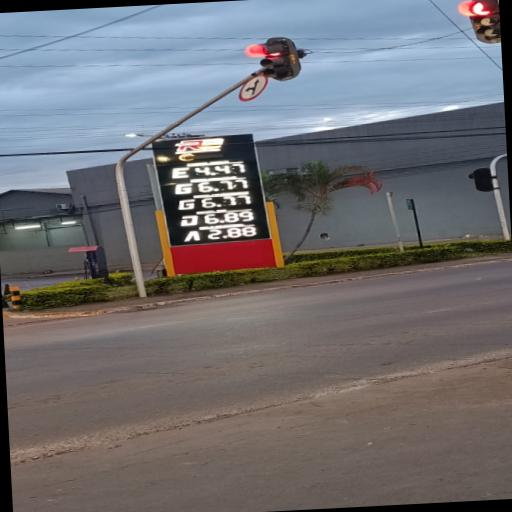ETANOL: (168, 157, 238, 181)
GASOLINA AD: (178, 190, 254, 213)
GASOLINA C: (171, 175, 241, 198)
S10: (180, 208, 234, 226)
placa: (159, 158, 270, 228)
preco: (196, 178, 256, 193), (204, 209, 258, 225), (200, 194, 255, 209), (194, 162, 248, 176)
